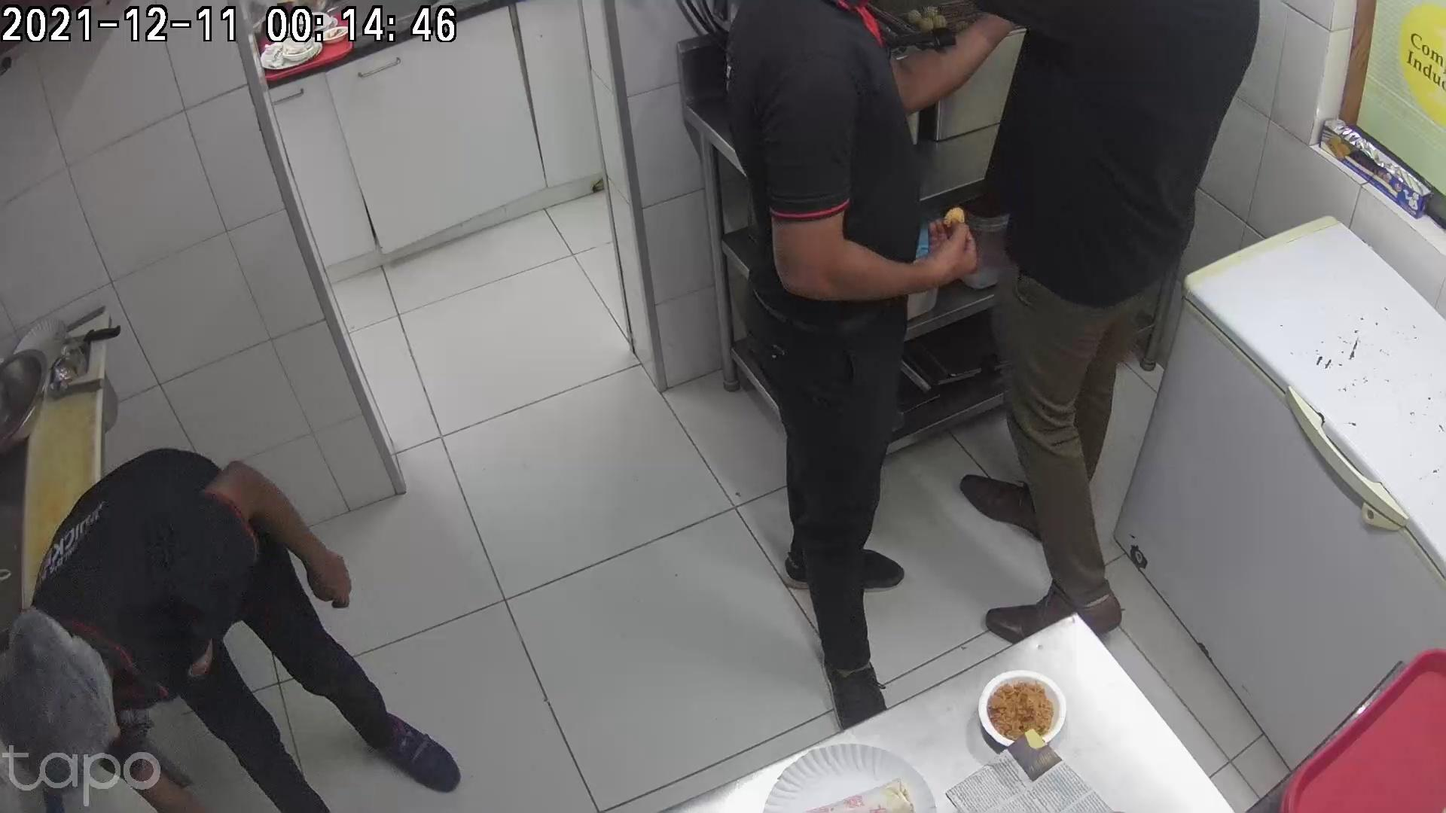no_gloves: (264, 641, 431, 790)
